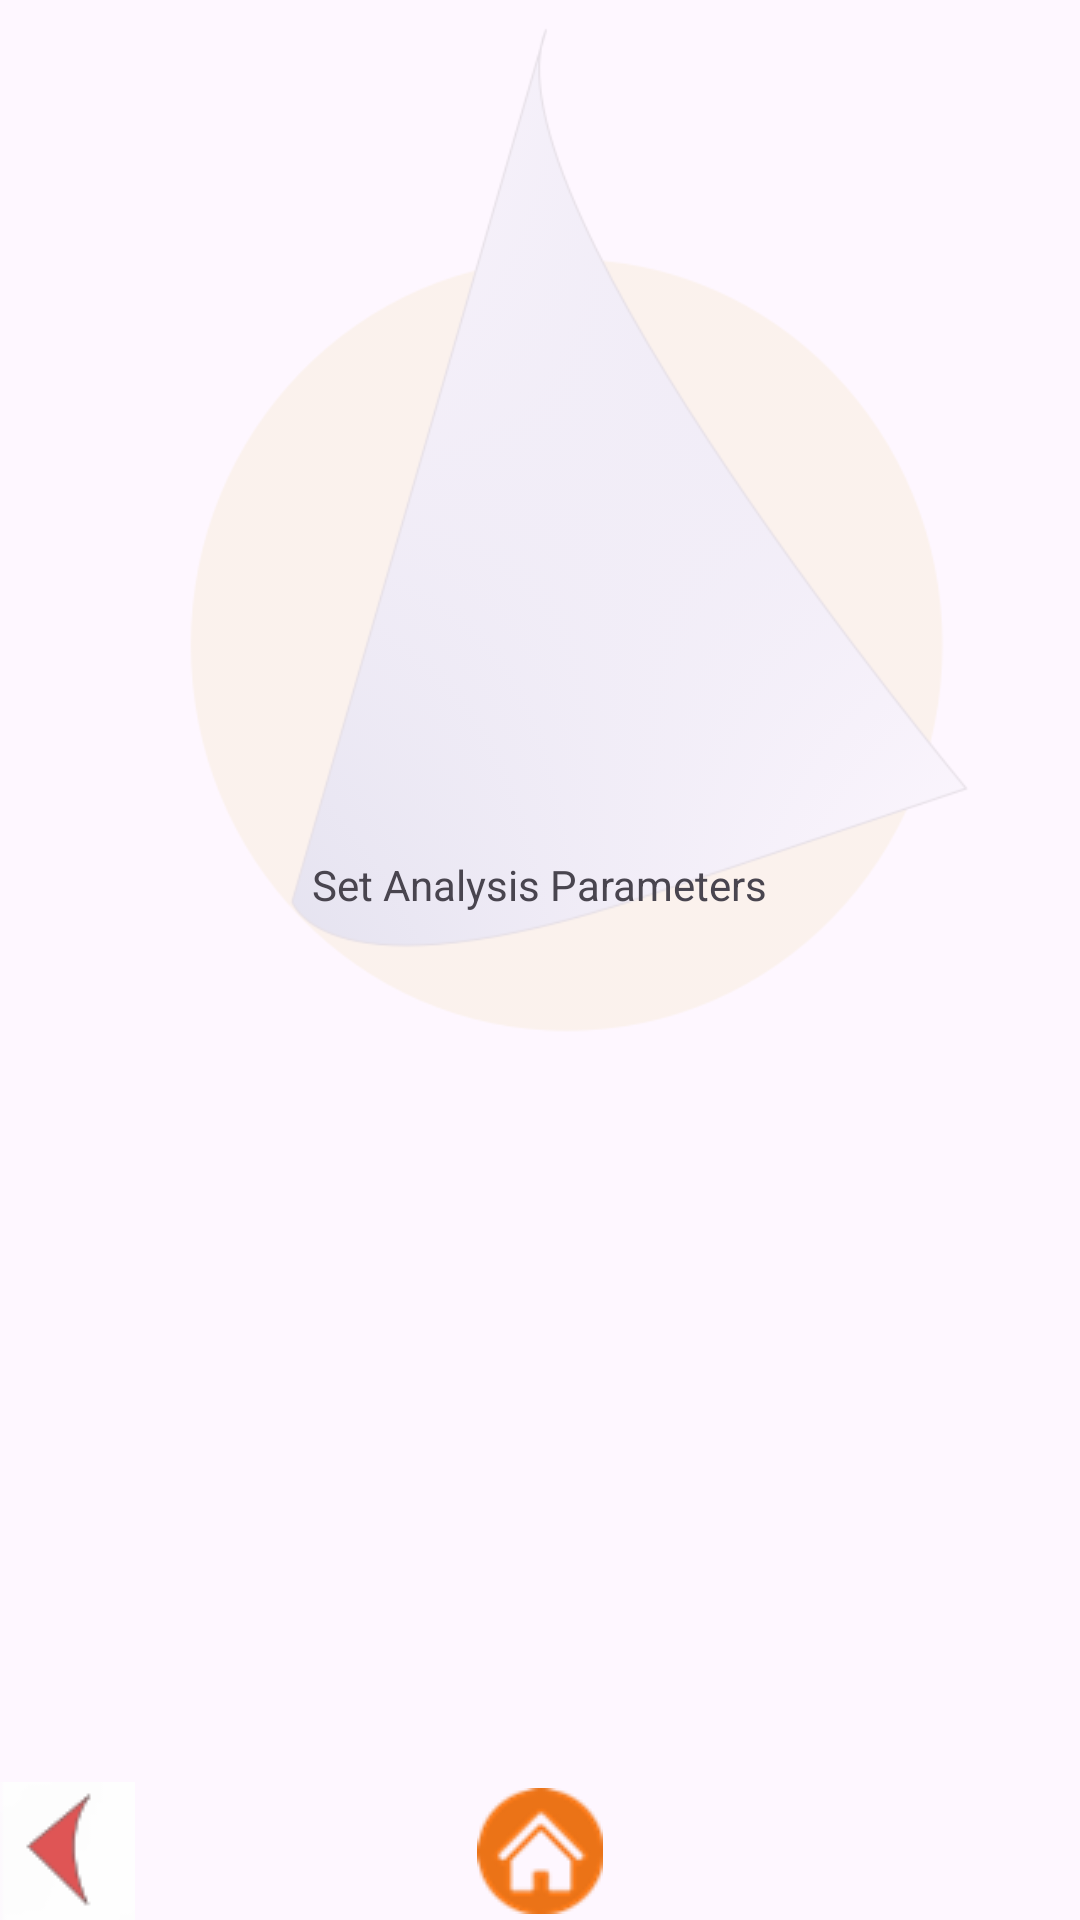

Point at icon controls on the screen. Image size 1080*1920, points as (x,y).
Home: (540,1851)
Left Nav: (58,1849)
